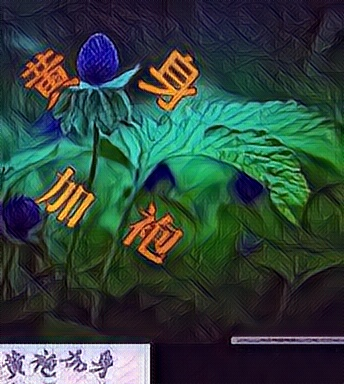BBC6: (16, 48, 81, 112)
BCD3: (30, 166, 95, 230)
C5DB: (122, 203, 187, 267)
C9ED: (135, 45, 200, 109)
